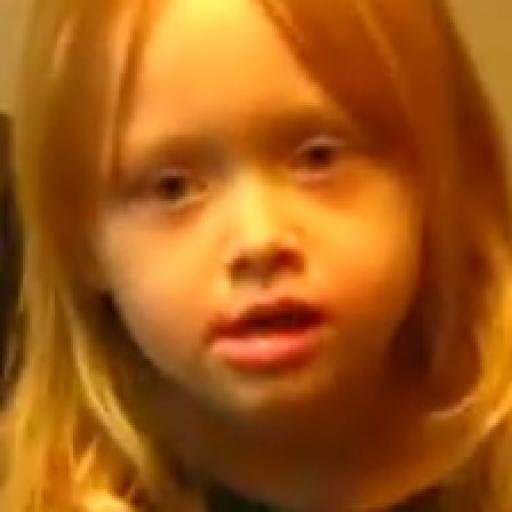Autism: (56, 22, 491, 512)
